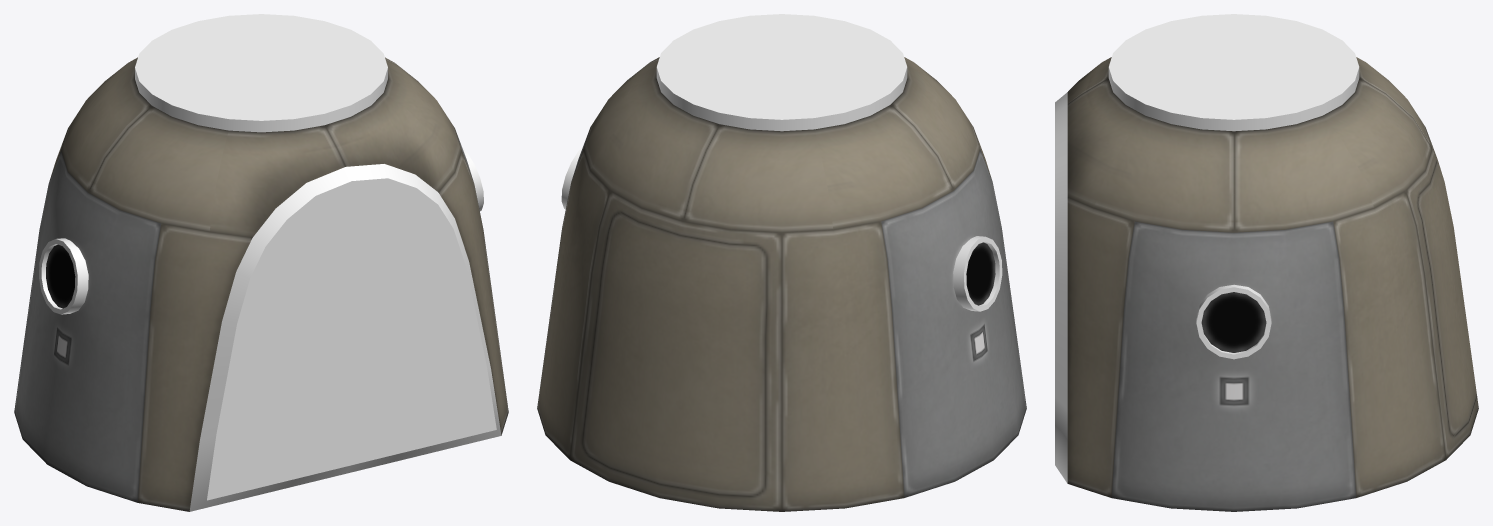
File: Tantares_Crew_1_Interior.obj
The picture shows the model from 3 angles, left to right: view 1: azimuth 30°, elevation 25°; view 2: azimuth 150°, elevation 25°; view 3: azimuth 270°, elevation 25°; orthographic projection.
Parts seen in each view (by area): view 1: Tantares_Crew_1_Interior_Mask, Tantares_Crew_1_Interior, Tantares_Crew_1_Interior_Windows; view 2: Tantares_Crew_1_Interior, Tantares_Crew_1_Interior_Mask, Tantares_Crew_1_Interior_Windows; view 3: Tantares_Crew_1_Interior, Tantares_Crew_1_Interior_Mask, Tantares_Crew_1_Interior_Windows.
Part boxes in pixels (<box>): Tantares_Crew_1_Interior_Mask: <box>39,14,501,511</box>; Tantares_Crew_1_Interior: <box>14,57,508,511</box>; Tantares_Crew_1_Interior_Windows: <box>46,244,75,308</box>; Tantares_Crew_1_Interior: <box>537,57,1026,511</box>; Tantares_Crew_1_Interior_Mask: <box>561,14,1002,311</box>; Tantares_Crew_1_Interior_Windows: <box>966,242,995,305</box>; Tantares_Crew_1_Interior: <box>1067,57,1478,511</box>; Tantares_Crew_1_Interior_Mask: <box>1055,14,1359,483</box>; Tantares_Crew_1_Interior_Windows: <box>1201,292,1266,352</box>.
Bounding box in the file's own units: 1.22 × 0.94 × 1.06.
